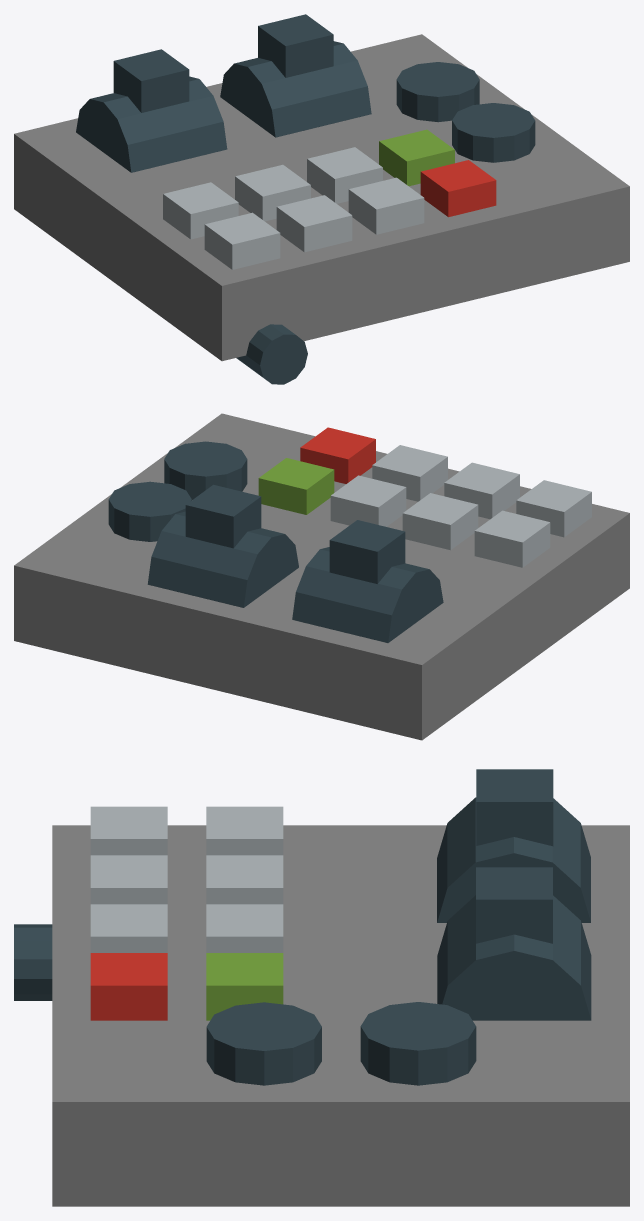
The model's file is ControlConsole.glb.
3 renders of one model, top to bottom at view 1: azimuth 30°, elevation 25°; view 2: azimuth 150°, elevation 25°; view 3: azimuth 270°, elevation 25°, orthographic. The views are drawn at different scales.
Visible parts, largest first — view 1: node_MeshObject1619947520-PolyPaper22; view 2: node_MeshObject1619947520-PolyPaper22; view 3: node_MeshObject1619947520-PolyPaper22.
Part boxes in pixels (box(x1,y1,x2,y2)): node_MeshObject1619947520-PolyPaper22: box(14, 14, 629, 384); node_MeshObject1619947520-PolyPaper22: box(14, 413, 629, 740); node_MeshObject1619947520-PolyPaper22: box(14, 769, 629, 1206).
Bounding box in the file's own units: 0.17 × 0.07 × 0.16.
